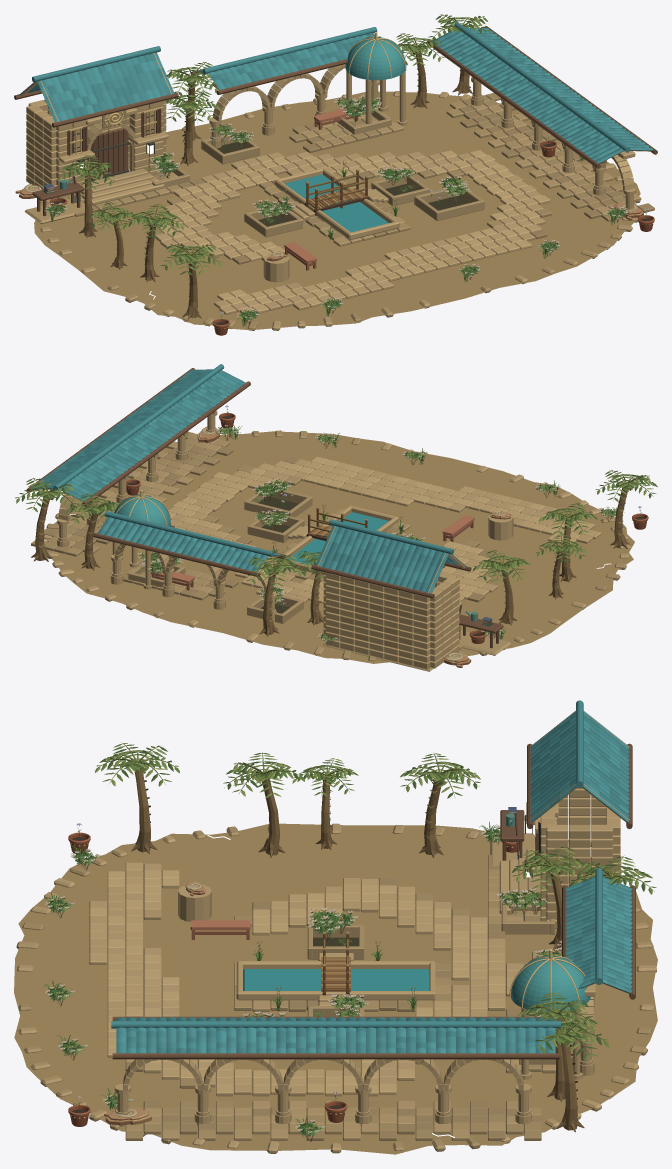
Rendered from sahrun.glb.
The picture shows the model from 3 angles, top to bottom: view 1: azimuth 30°, elevation 25°; view 2: azimuth 150°, elevation 25°; view 3: azimuth 270°, elevation 25°; orthographic projection. The views are drawn at different scales.
Visible parts, largest first — view 1: merged-masonry-botany, merged-timber-ceramic, merged-opaque-water; view 2: merged-masonry-botany, merged-timber-ceramic, merged-opaque-water; view 3: merged-masonry-botany, merged-timber-ceramic, merged-opaque-water.
Part boxes in pixels (x1,y1,x2,y2): merged-masonry-botany: (15, 14, 654, 335); merged-timber-ceramic: (14, 22, 657, 216); merged-opaque-water: (285, 174, 388, 232); merged-masonry-botany: (15, 405, 657, 671); merged-timber-ceramic: (26, 364, 503, 648); merged-opaque-water: (288, 512, 388, 564); merged-masonry-botany: (14, 743, 657, 1154); merged-timber-ceramic: (111, 700, 635, 1059); merged-opaque-water: (243, 969, 428, 990).
Bounding box in the file's own units: 24.44 × 5.38 × 20.08.
